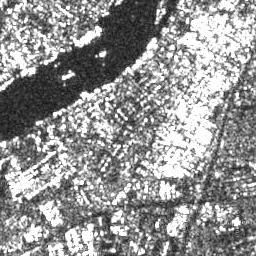ship: (60, 69, 77, 80), (146, 35, 157, 51), (98, 47, 106, 58)
